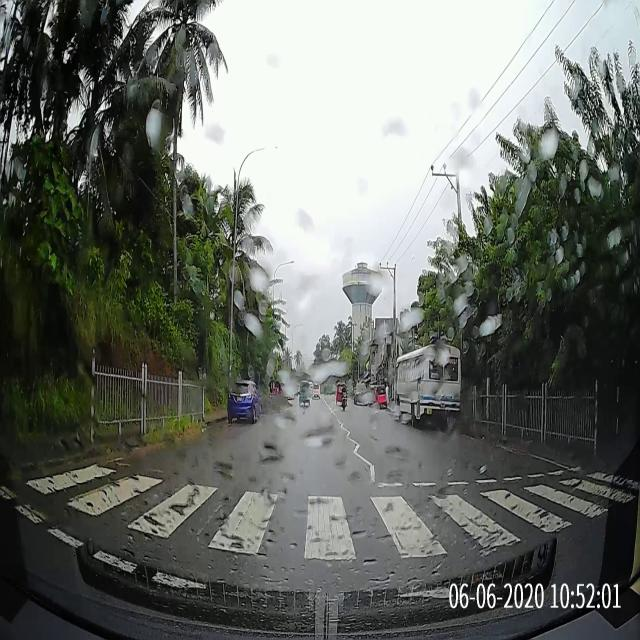Crosswalk: (1, 455, 640, 593)
